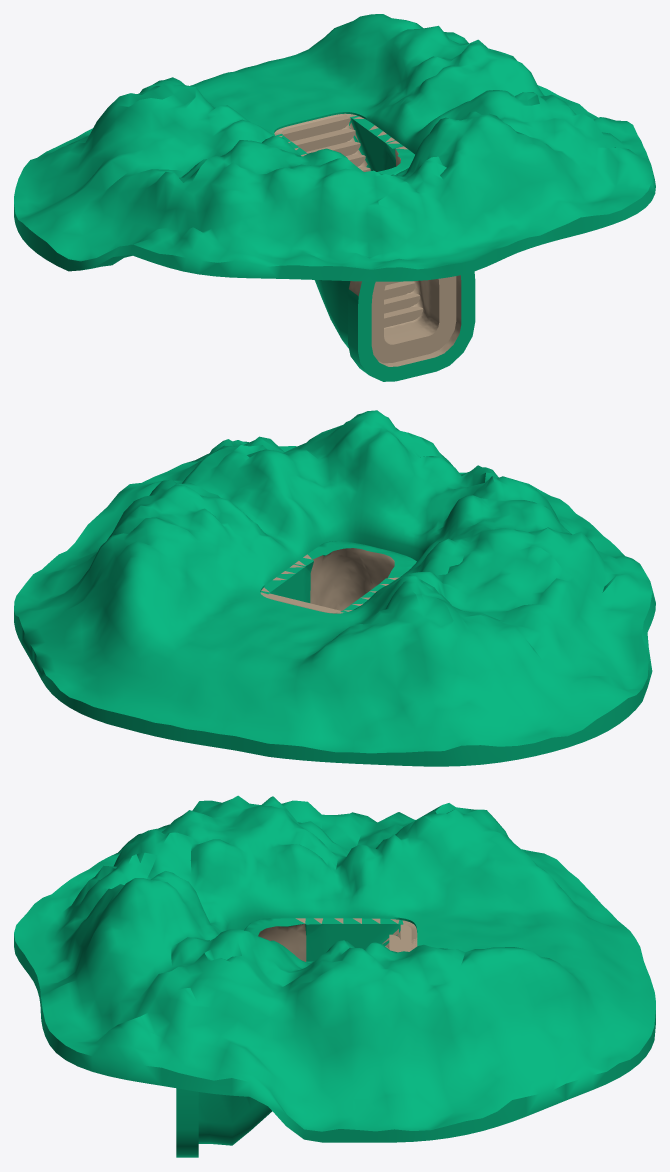
Rendered from TT_Entry_Incline.fbx.
3 views of the same model, one above another, from view 1: azimuth 30°, elevation 25°; view 2: azimuth 150°, elevation 25°; view 3: azimuth 270°, elevation 25° (orthographic). The views are drawn at different scales.
Parts seen in each view (by area): view 1: TT_Entry_Incline_LOD0; view 2: TT_Entry_Incline_LOD0; view 3: TT_Entry_Incline_LOD0.
Part boxes in pixels (left/top/right/bottom): TT_Entry_Incline_LOD0: left=14, top=14, right=655, bottom=381; TT_Entry_Incline_LOD0: left=14, top=410, right=655, bottom=766; TT_Entry_Incline_LOD0: left=14, top=795, right=655, bottom=1157.
Size of the model in its own units: 1589 by 718 by 1432.
